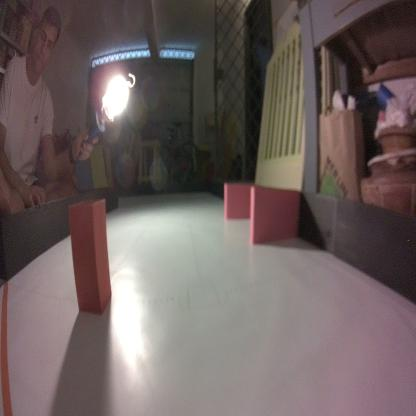magenta: (248, 183, 301, 250), (223, 180, 260, 223)
red: (68, 196, 112, 312)
